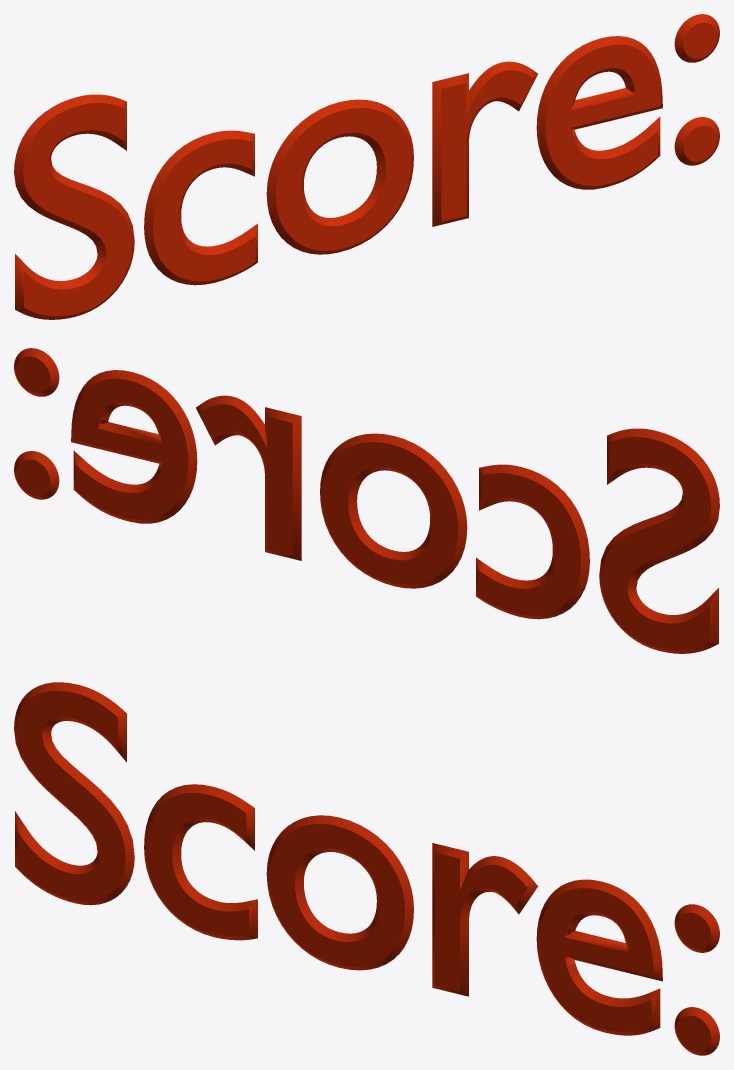
File: score.obj
3 views of the same model, one above another, from view 1: azimuth 30°, elevation 25°; view 2: azimuth 150°, elevation 25°; view 3: azimuth 330°, elevation 25° (orthographic).
Visible parts, largest first — view 1: Text; view 2: Text; view 3: Text.
Part boxes in pixels (x1=…): Text: x1=14, y1=14, x2=719, y2=319; Text: x1=14, y1=348, x2=719, y2=653; Text: x1=14, y1=682, x2=719, y2=1055.
Bounding box in the file's own units: 2.49 × 0.7401 × 0.04.
